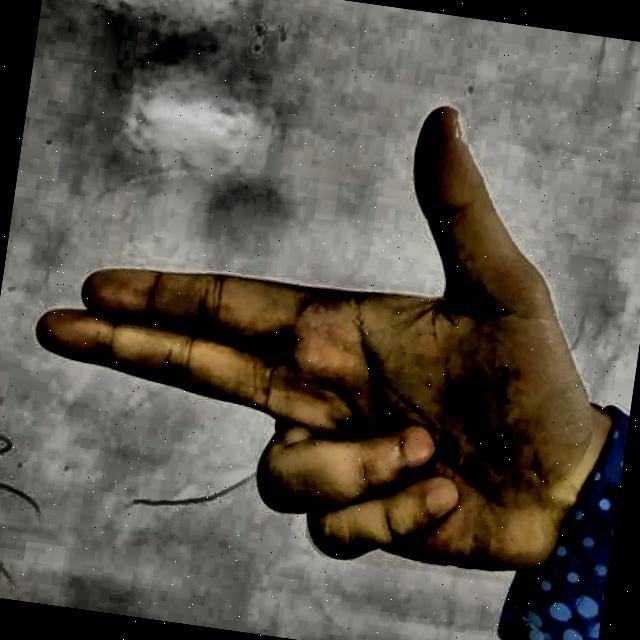Jha: (2, 26, 636, 640)
